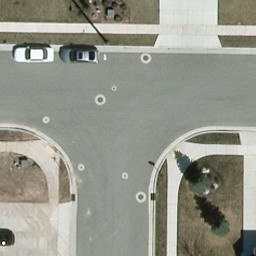car: (59, 47, 100, 64), (13, 46, 55, 62), (0, 231, 14, 247)
